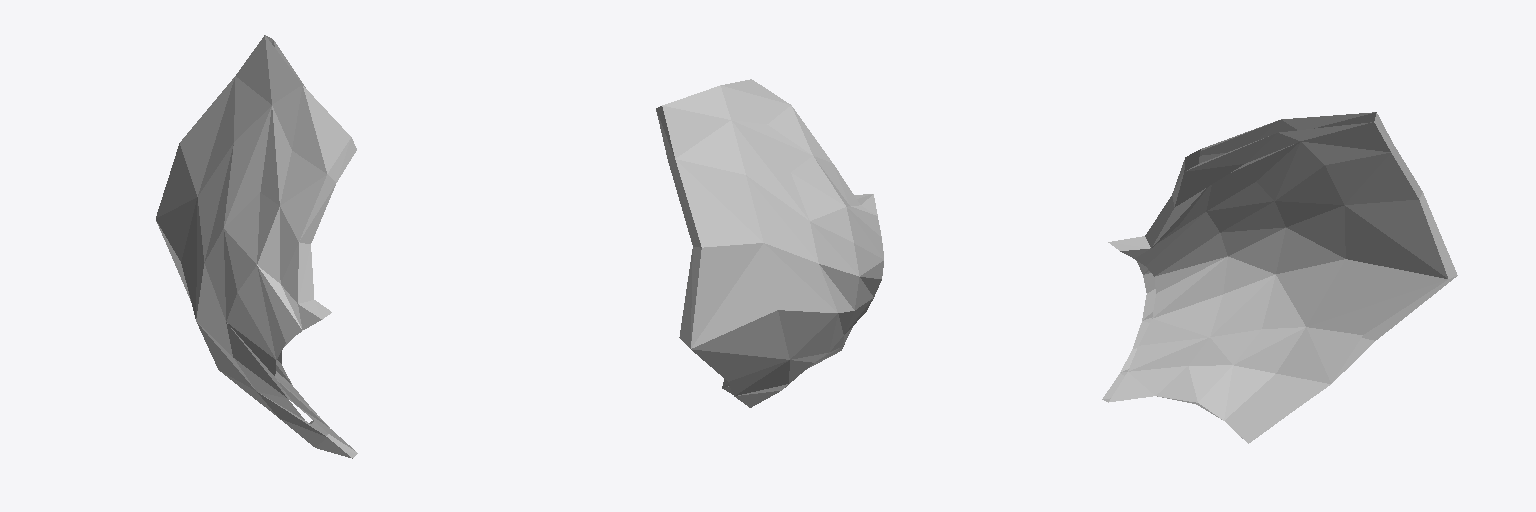
The model's file is Buccinator_Muscle_Right.obj.
3 views of the same model, side by side, from view 1: azimuth 30°, elevation 25°; view 2: azimuth 150°, elevation 25°; view 3: azimuth 270°, elevation 25° (orthographic).
Visible parts, largest first — view 1: Buccinator_Muscle_Right_Mesh group1; view 2: Buccinator_Muscle_Right_Mesh group1; view 3: Buccinator_Muscle_Right_Mesh group1.
Boxes of the visible parts, x1,y1,x2,y2 form: Buccinator_Muscle_Right_Mesh group1: [156, 35, 357, 458]; Buccinator_Muscle_Right_Mesh group1: [656, 79, 883, 407]; Buccinator_Muscle_Right_Mesh group1: [1102, 112, 1457, 443].
Size of the model in its own units: 0.1971 by 0.4971 by 0.4666.